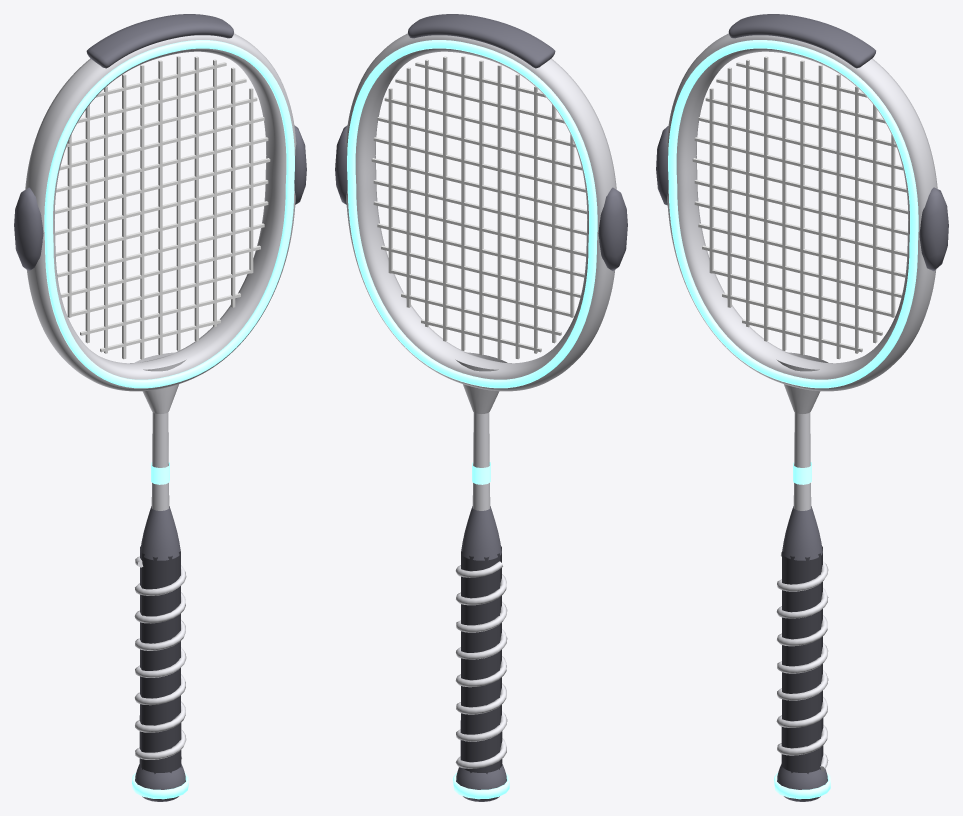
File: racket_aero.glb
3 renders of one model, left to right at view 1: azimuth 30°, elevation 25°; view 2: azimuth 150°, elevation 25°; view 3: azimuth 330°, elevation 25°, orthographic.
Parts seen in each view (by area): view 1: Strings, FrameHead, Groove, Grip, Bumper, GripTape, AeroBulge, Throat, Shaft, ButtCap, TJoint, AeroBulge.001 (+1 smaller); view 2: Strings, FrameHead, Groove.001, Grip, GripTape, Bumper, AeroBulge, Throat, Shaft, ButtCap, TJoint, AeroBulge.001 (+1 smaller); view 3: Strings, FrameHead, Groove, Grip, Bumper, GripTape, AeroBulge.001, Throat, Shaft, ButtCap, TJoint, AeroBulge (+1 smaller).
Part boxes in pixels (x1,y1,x2,y2): Strings: [55, 56, 270, 359]; FrameHead: [25, 33, 296, 391]; Groove: [44, 40, 294, 388]; Grip: [139, 546, 181, 773]; Bumper: [86, 14, 233, 68]; GripTape: [134, 556, 186, 759]; AeroBulge: [14, 187, 43, 270]; Throat: [140, 506, 180, 560]; Shaft: [151, 412, 169, 510]; ButtCap: [135, 764, 185, 801]; TJoint: [134, 352, 186, 413]; AeroBulge.001: [294, 125, 306, 204]; Strings: [371, 56, 586, 359]; FrameHead: [345, 33, 616, 391]; Groove.001: [347, 40, 597, 388]; Grip: [460, 546, 502, 773]; GripTape: [455, 561, 507, 768]; Bumper: [408, 14, 555, 68]; AeroBulge: [598, 187, 627, 270]; Throat: [461, 506, 501, 560]; Shaft: [472, 412, 490, 510]; ButtCap: [456, 764, 506, 801]; TJoint: [455, 352, 507, 413]; AeroBulge.001: [335, 125, 347, 204]; Strings: [692, 56, 907, 359]; FrameHead: [666, 33, 937, 391]; Groove: [668, 40, 918, 388]; Grip: [781, 546, 823, 773]; Bumper: [728, 14, 875, 68]; GripTape: [776, 552, 828, 771]; AeroBulge.001: [919, 187, 948, 271]; Throat: [782, 506, 822, 560]; Shaft: [793, 412, 811, 510]; ButtCap: [777, 764, 827, 801]; TJoint: [776, 352, 828, 413]; AeroBulge: [656, 126, 668, 205].
Bounding box in the file's own units: 0.2848 × 0.7359 × 0.0496.
